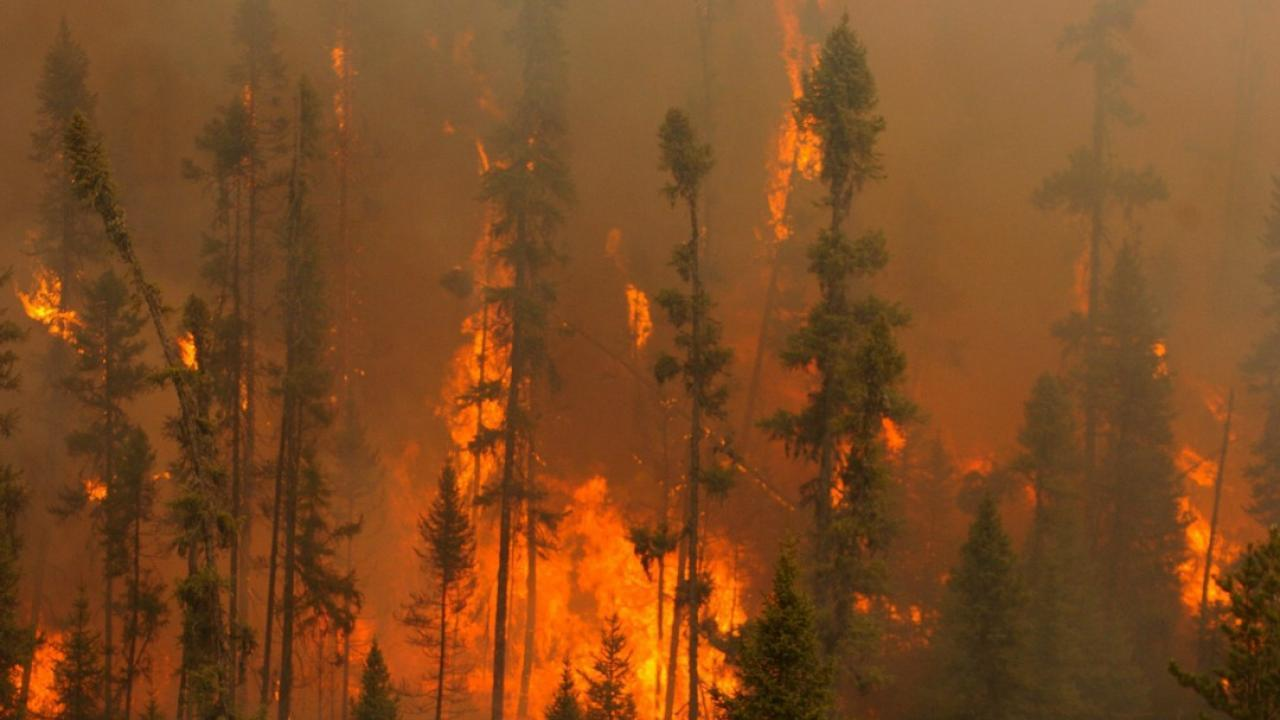fire: (413, 198, 741, 712), (1148, 351, 1254, 610), (770, 25, 812, 243), (19, 259, 104, 360), (823, 414, 906, 500), (16, 621, 69, 707), (860, 582, 937, 641), (330, 41, 351, 130), (174, 330, 201, 367), (84, 477, 110, 502)
